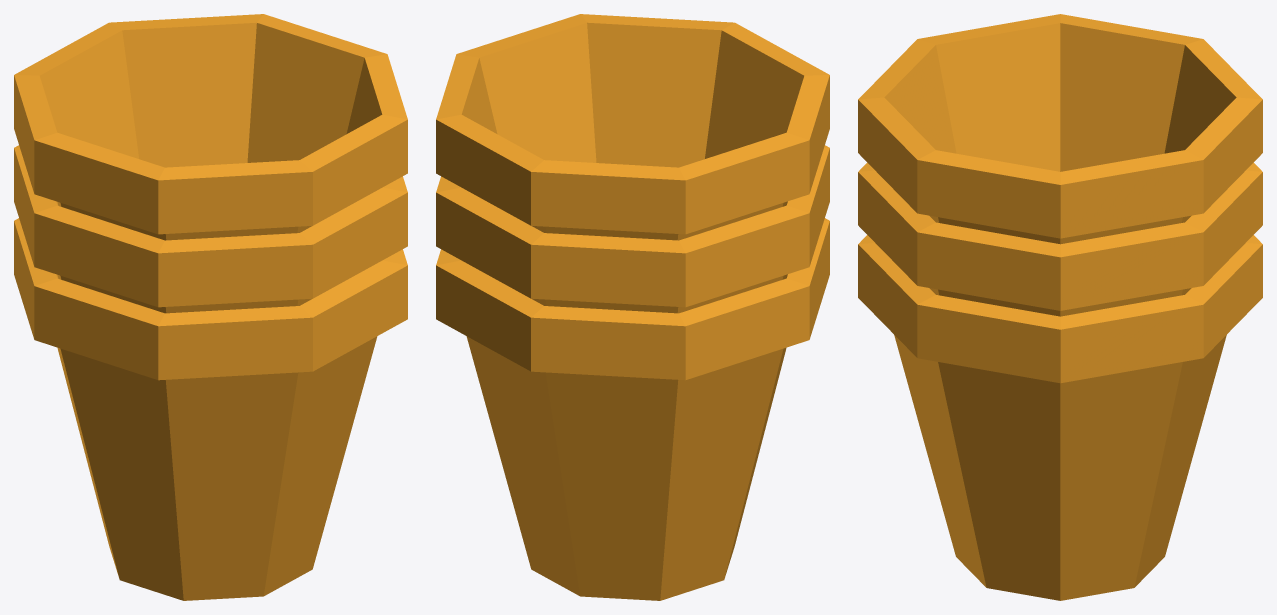
Rendered from SM_Pot_Clay_Stack_A.fbx.
The picture shows the model from 3 angles, left to right: view 1: azimuth 30°, elevation 25°; view 2: azimuth 150°, elevation 25°; view 3: azimuth 270°, elevation 25°; orthographic projection.
Parts seen in each view (by area): view 1: pot-clay-stack-a; view 2: pot-clay-stack-a; view 3: pot-clay-stack-a.
Part boxes in pixels (box(x1,y1,x2,y2)): pot-clay-stack-a: box(14, 14, 407, 600); pot-clay-stack-a: box(436, 14, 829, 600); pot-clay-stack-a: box(858, 14, 1262, 600).
Size of the model in its own units: 0.21 by 0.263 by 0.21.
